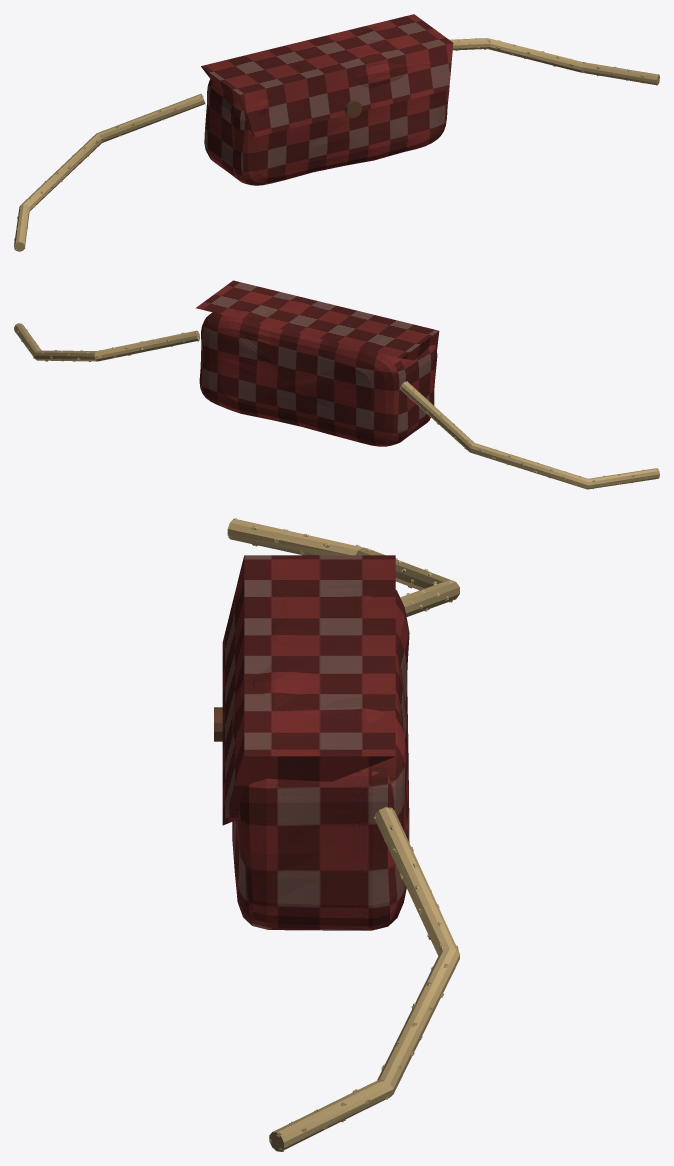
The model's file is bolsa_cintura.glb.
3 views of the same model, one above another, from view 1: azimuth 30°, elevation 25°; view 2: azimuth 150°, elevation 25°; view 3: azimuth 270°, elevation 25° (orthographic). The views are drawn at different scales.
Visible parts, largest first — view 1: bolsa_cintura_trapo_xadrez, bolsa_cintura_corda; view 2: bolsa_cintura_trapo_xadrez, bolsa_cintura_corda; view 3: bolsa_cintura_trapo_xadrez, bolsa_cintura_corda.
Boxes of the visible parts, <box> form: bolsa_cintura_trapo_xadrez: <box>201,14,453,185</box>; bolsa_cintura_corda: <box>14,38,659,251</box>; bolsa_cintura_trapo_xadrez: <box>195,280,439,446</box>; bolsa_cintura_corda: <box>14,323,659,489</box>; bolsa_cintura_trapo_xadrez: <box>222,555,409,930</box>; bolsa_cintura_corda: <box>227,518,459,1151</box>.
Size of the model in its own units: 0.6776 by 0.1031 by 0.1138.
3 materials, 3 textured.
